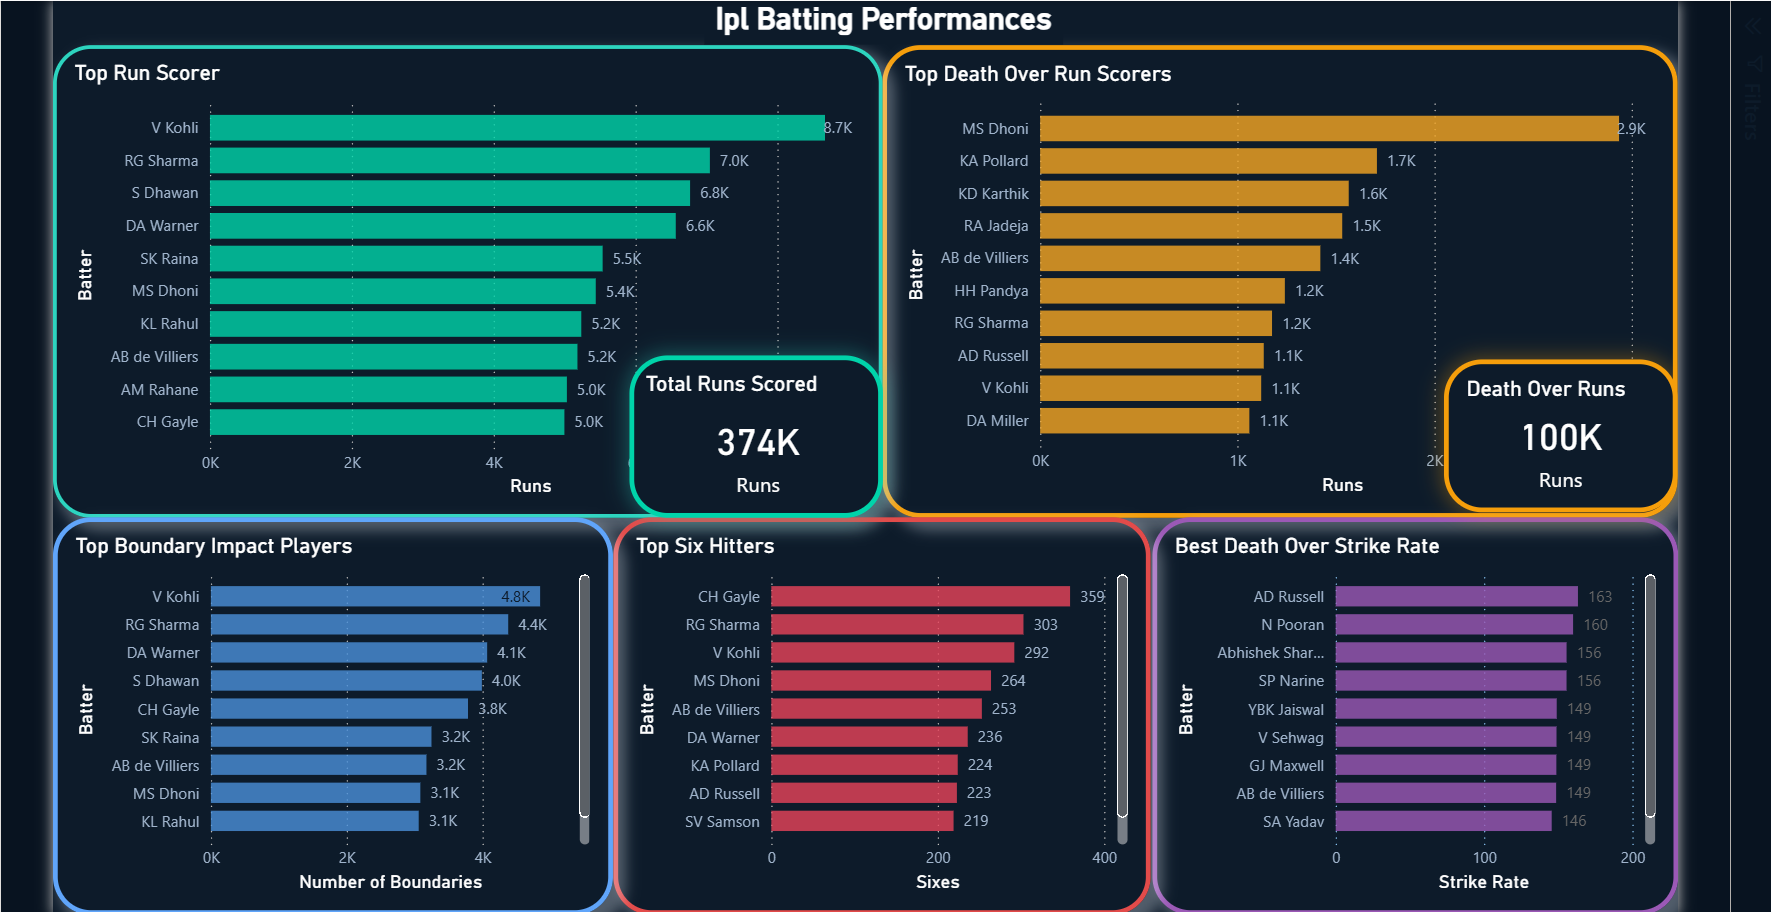

The page's visual inventory and layout, read from the dashboard file:
{"tool":"powerbi","page":{"name":"Page 1","canvas":[1280,720],"ordinal":0},"visuals":[{"type":"clusteredBarChart","title":"Top Death Over Run Scorers","fields":{"Category":["death_statistics.batter"],"Y":["Sum(death_statistics.runs)"]},"box":[653.6,34.8,626.4,372],"z":0},{"type":"clusteredBarChart","title":"Best Death Over Strike Rate","fields":{"Category":["death_strike_rate.batter"],"Y":["Sum(death_strike_rate.strike_rate)"]},"box":[865.8,406.8,414.2,313.2],"z":1000},{"type":"clusteredBarChart","title":"Top Run Scorer","fields":{"Category":["top_run_scorers.player_name"],"Y":["Sum(top_run_scorers.total_runs)"]},"box":[0.4,34.8,653.3,372],"z":2000},{"type":"clusteredBarChart","title":"Top Six Hitters","fields":{"Y":["Sum(top_six_hitter.Column2)"],"Category":["top_six_hitter.Column1"]},"box":[441.4,406.8,423.1,313.2],"z":3000},{"type":"clusteredBarChart","title":"Top Boundary Impact Players","fields":{"Category":["top_hitters.batter"],"Y":["Sum(top_hitters.boundary_runs_sum)"]},"box":[0.4,406.8,441,313.2],"z":4000},{"type":"textbox","title":"Ipl Batting Performances","box":[512.6,0,282.5,34.5],"z":5000},{"type":"card","title":"Total Runs Scored","fields":{"Values":["Sum(phase runs.runs_total)"]},"box":[453.8,278.7,199.4,127.8],"z":6000},{"type":"card","title":"Death Over Runs","fields":{"Values":["Sum(phase runs.runs_total)"]},"box":[1095.6,282.5,184.1,120.2],"z":7000}]}

Visuals, with their boxes on the page's 1280x720 design canvas (x1, y1, x2, y2). These are canvas units, not pixel positions in the 1771x912 screenshot, which may show the page scaled, cropped or inside an application window:
"Top Death Over Run Scorers" clusteredBarChart: left=654, top=35, right=1280, bottom=407
"Best Death Over Strike Rate" clusteredBarChart: left=866, top=407, right=1280, bottom=720
"Top Run Scorer" clusteredBarChart: left=0, top=35, right=654, bottom=407
"Top Six Hitters" clusteredBarChart: left=441, top=407, right=864, bottom=720
"Top Boundary Impact Players" clusteredBarChart: left=0, top=407, right=441, bottom=720
"Ipl Batting Performances" textbox: left=513, top=0, right=795, bottom=34
"Total Runs Scored" card: left=454, top=279, right=653, bottom=406
"Death Over Runs" card: left=1096, top=282, right=1280, bottom=403
